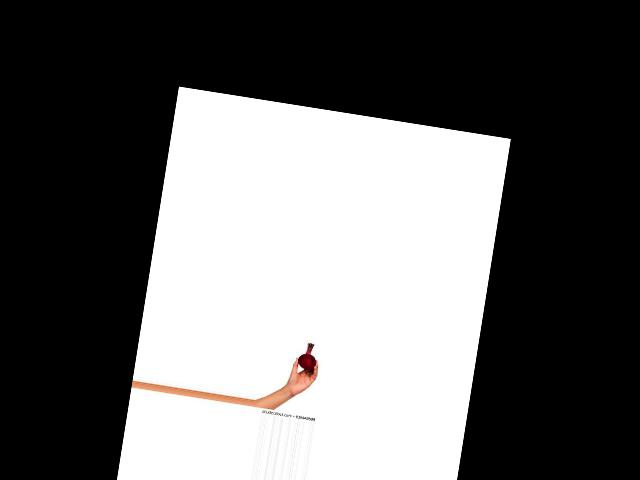beet: (297, 341, 319, 370)
